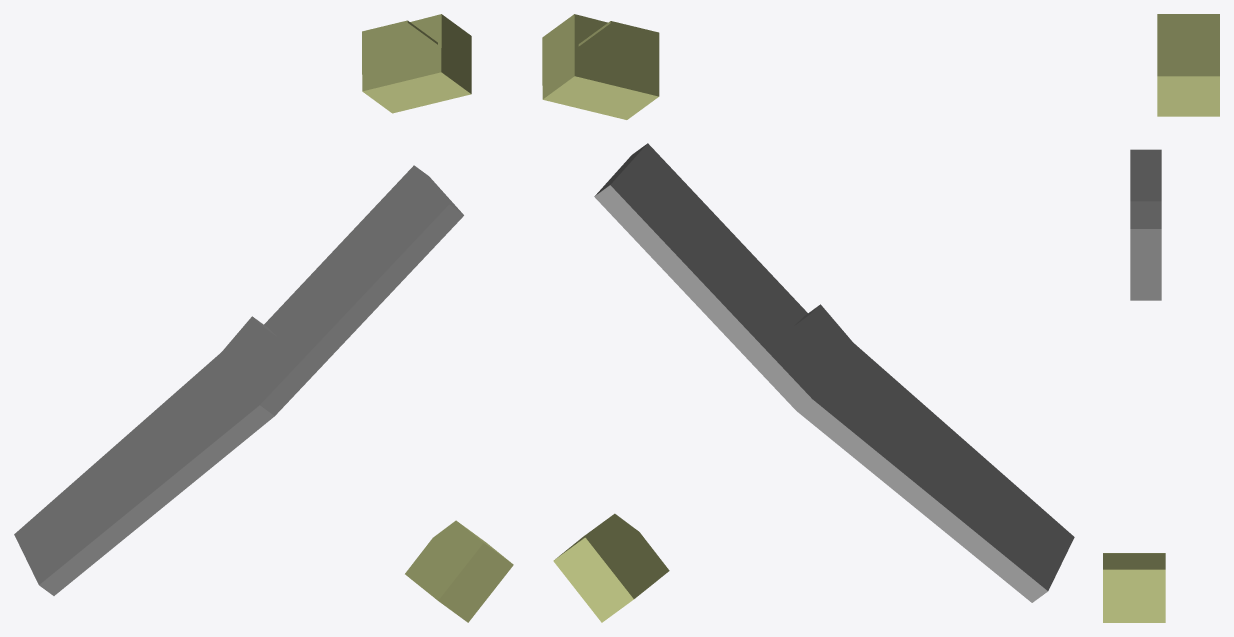
The picture shows the model from 3 angles, left to right: view 1: azimuth 30°, elevation 25°; view 2: azimuth 150°, elevation 25°; view 3: azimuth 270°, elevation 25°; orthographic projection. The views are drawn at different scales.
Parts seen in each view (by area): view 1: 0_3_0_1_1_2_2_3; view 2: 0_3_0_1_1_2_2_3; view 3: 0_3_0_1_1_2_2_3.
Boxes of the visible parts, box(x1,y1,x2,y2) form: 0_3_0_1_1_2_2_3: box(14, 14, 513, 622); 0_3_0_1_1_2_2_3: box(542, 14, 1074, 622); 0_3_0_1_1_2_2_3: box(1103, 14, 1219, 622).
Size of the model in its own units: 54.16 by 61.73 by 11.2.
